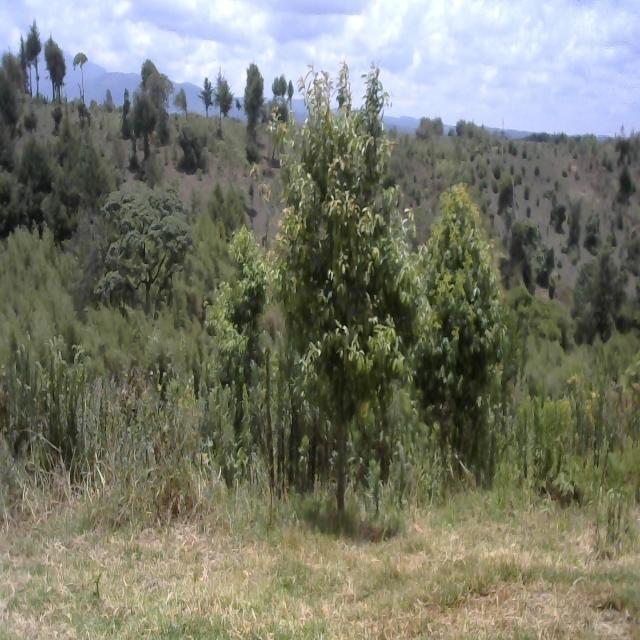Hass Avocado: (284, 27, 426, 514), (416, 158, 510, 491)
cedrus: (119, 67, 169, 182), (198, 61, 240, 132), (240, 61, 267, 151), (16, 28, 46, 105), (41, 30, 70, 100), (70, 48, 91, 112)
